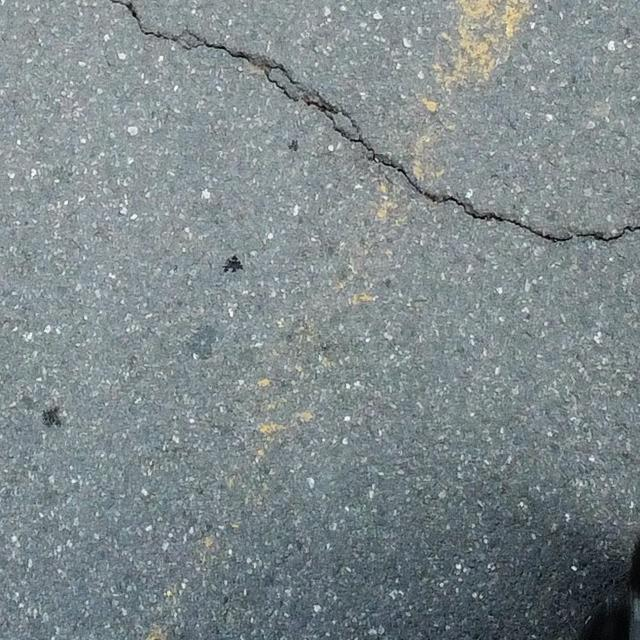TransverseCrack: (110, 1, 640, 245)
